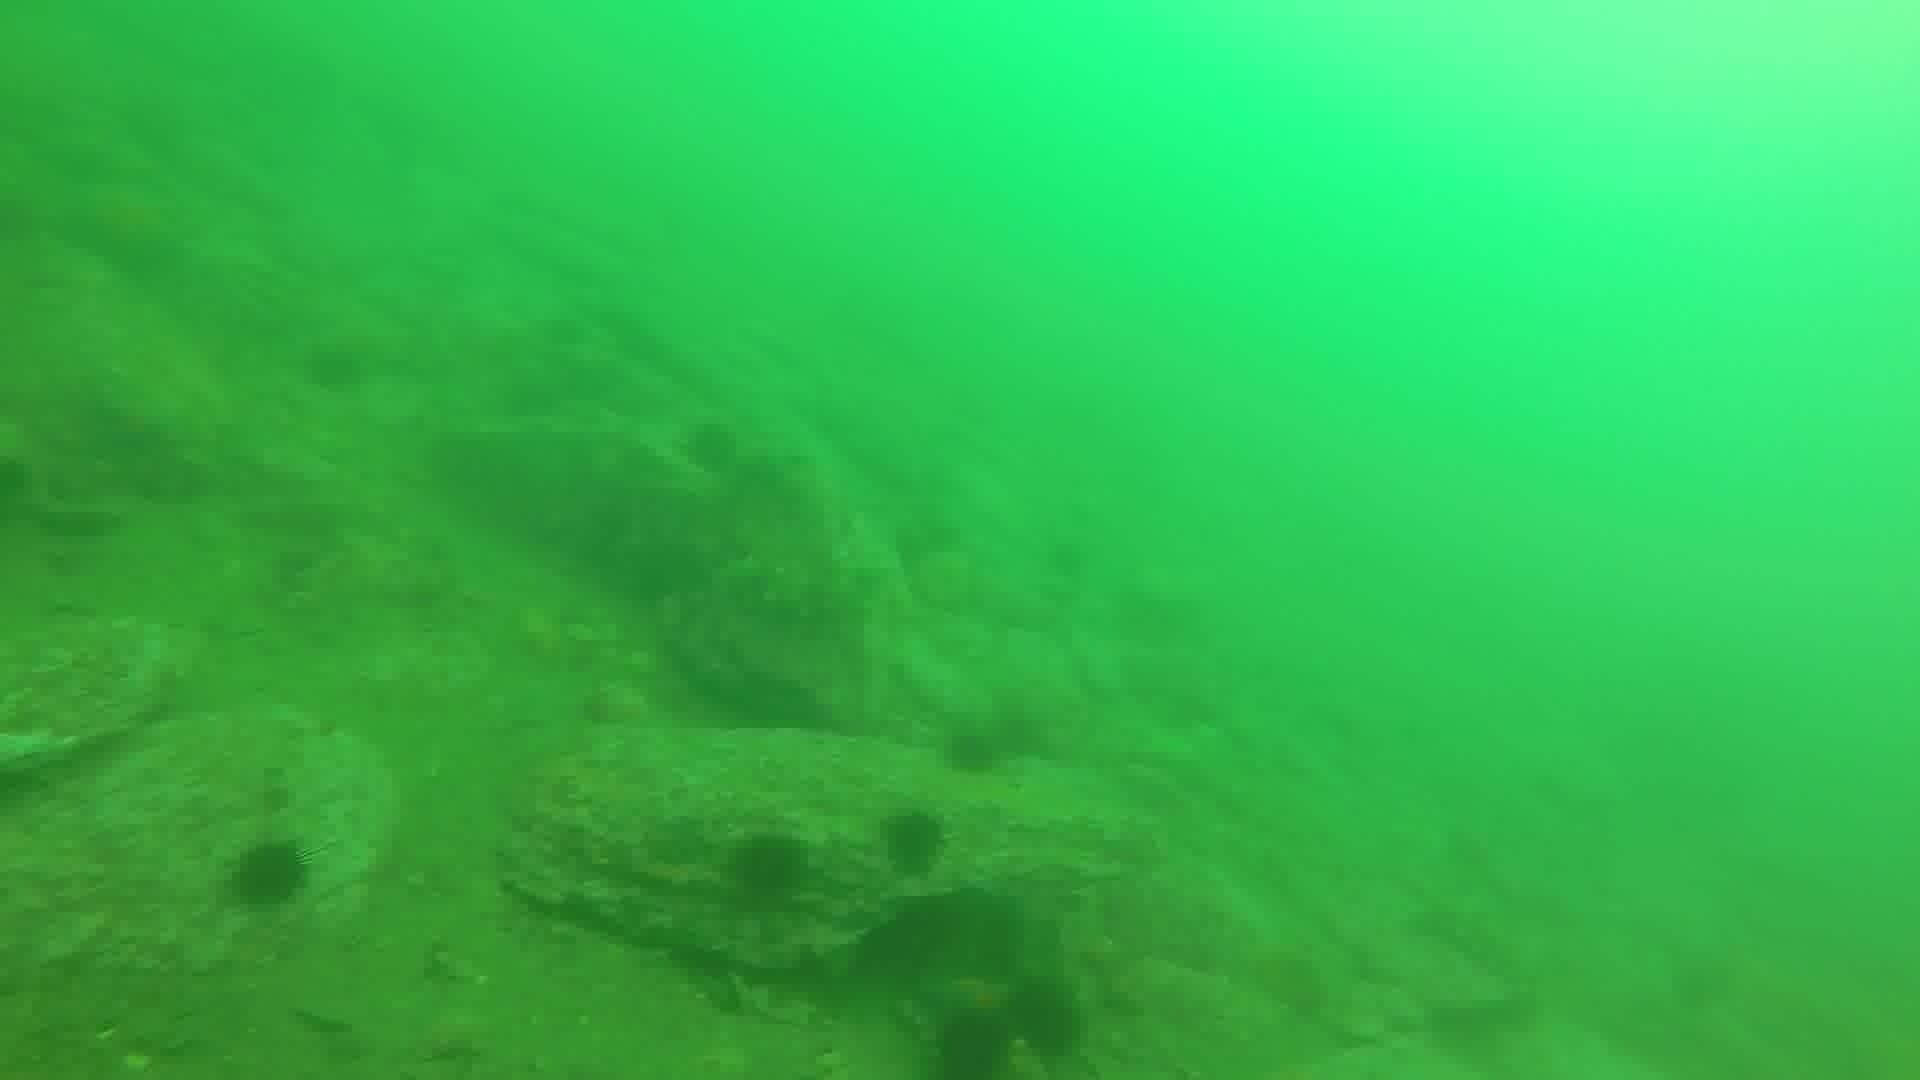echinus: (720, 825, 815, 913), (1000, 975, 1088, 1064), (224, 833, 314, 913), (926, 1006, 1015, 1079), (873, 803, 952, 880), (976, 695, 1051, 775), (298, 338, 371, 398), (676, 415, 745, 477), (938, 721, 1007, 781)
starfish: (51, 174, 191, 281), (915, 965, 1021, 1030)
